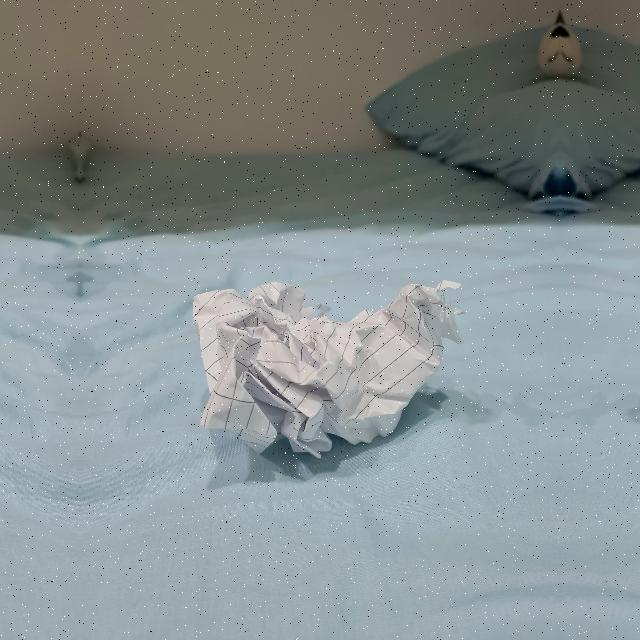paper: (190, 270, 464, 460)
